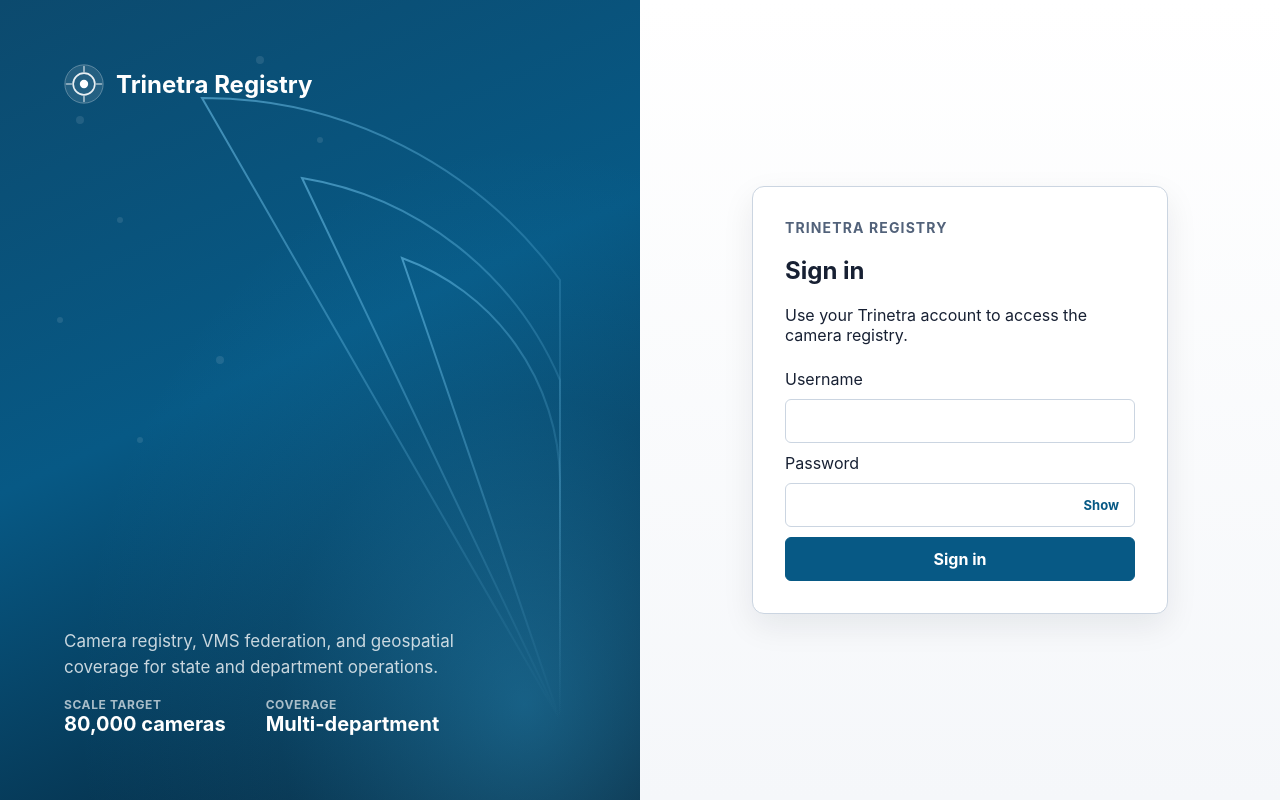
Test case: keeps the signed-out user cache unavailable while the next real login loads its cameras
In the field labelled "Username": [960, 421] box x1=785 y1=399 x2=1135 y2=443, type "second"
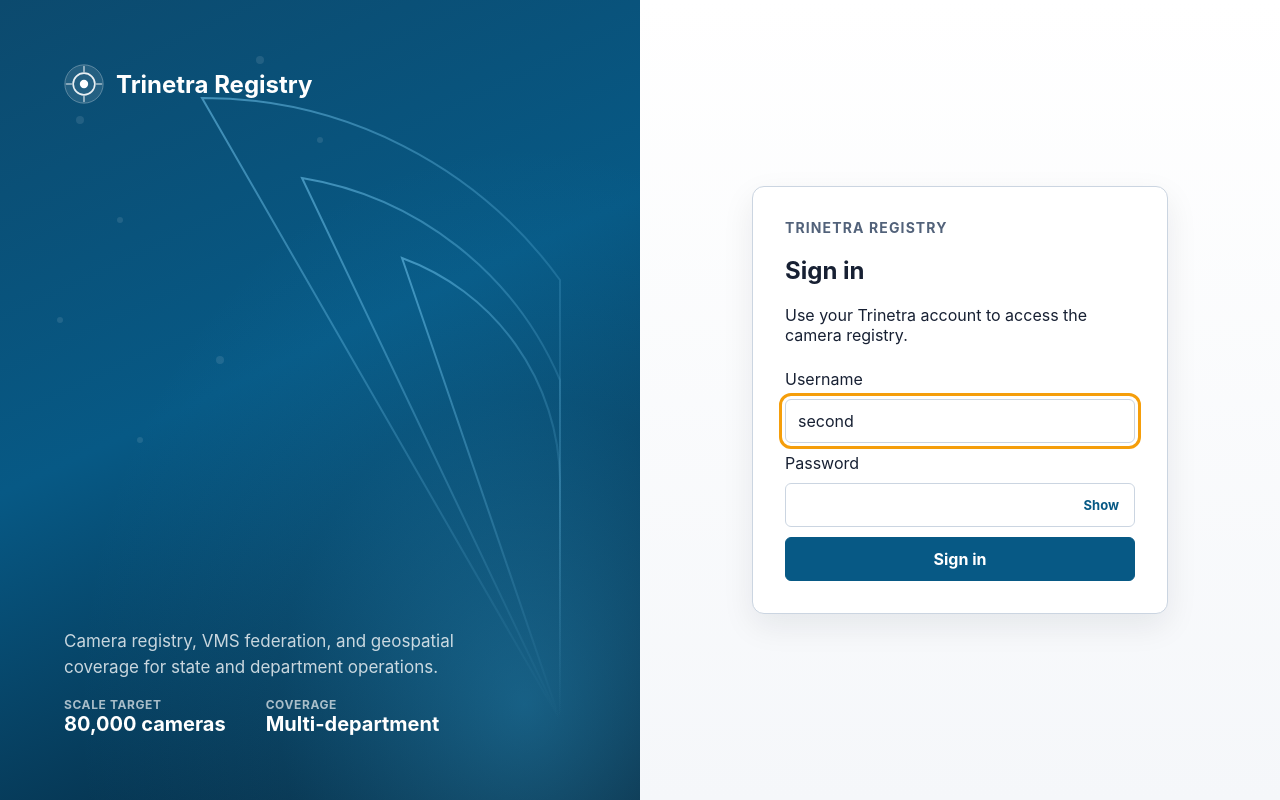
In the password field labelled "Password": [960, 505] box x1=785 y1=483 x2=1135 y2=527, type "valid password"
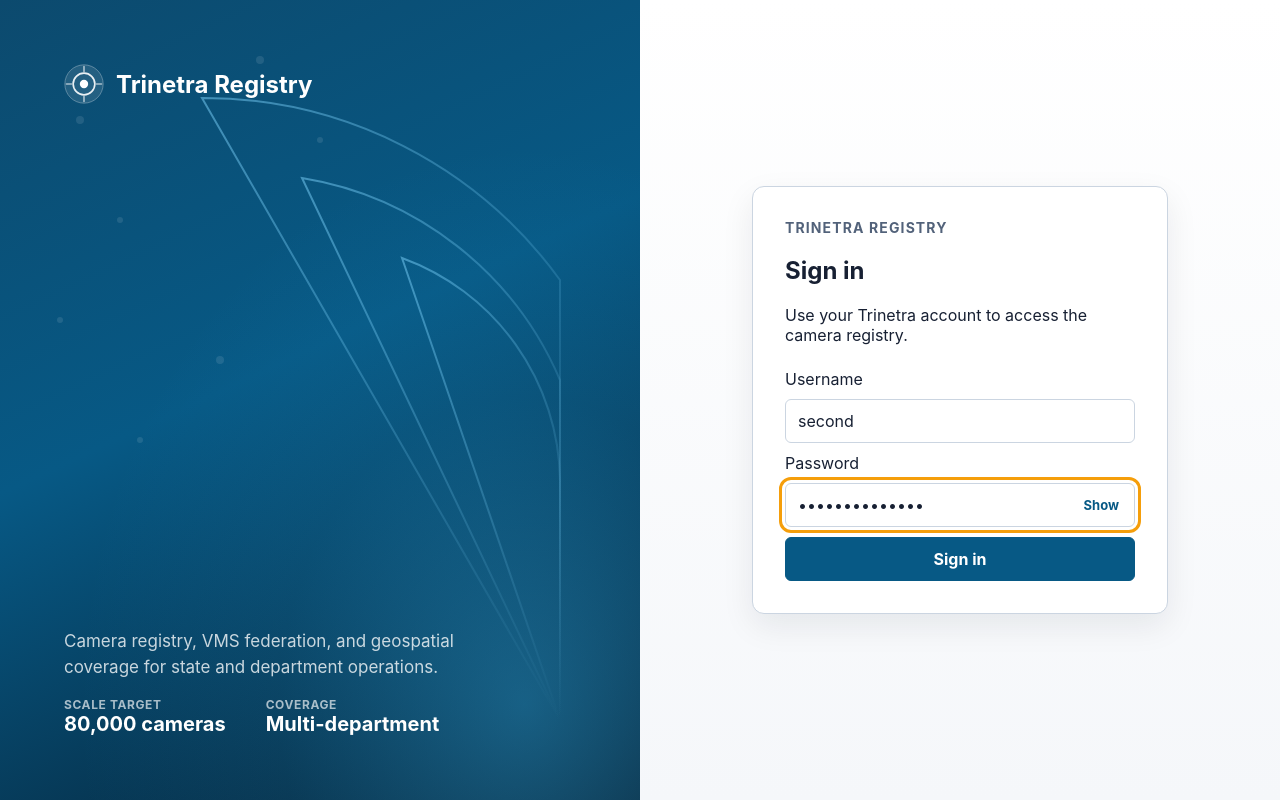
Click the button "Sign in": [960, 559] box x1=785 y1=537 x2=1135 y2=581
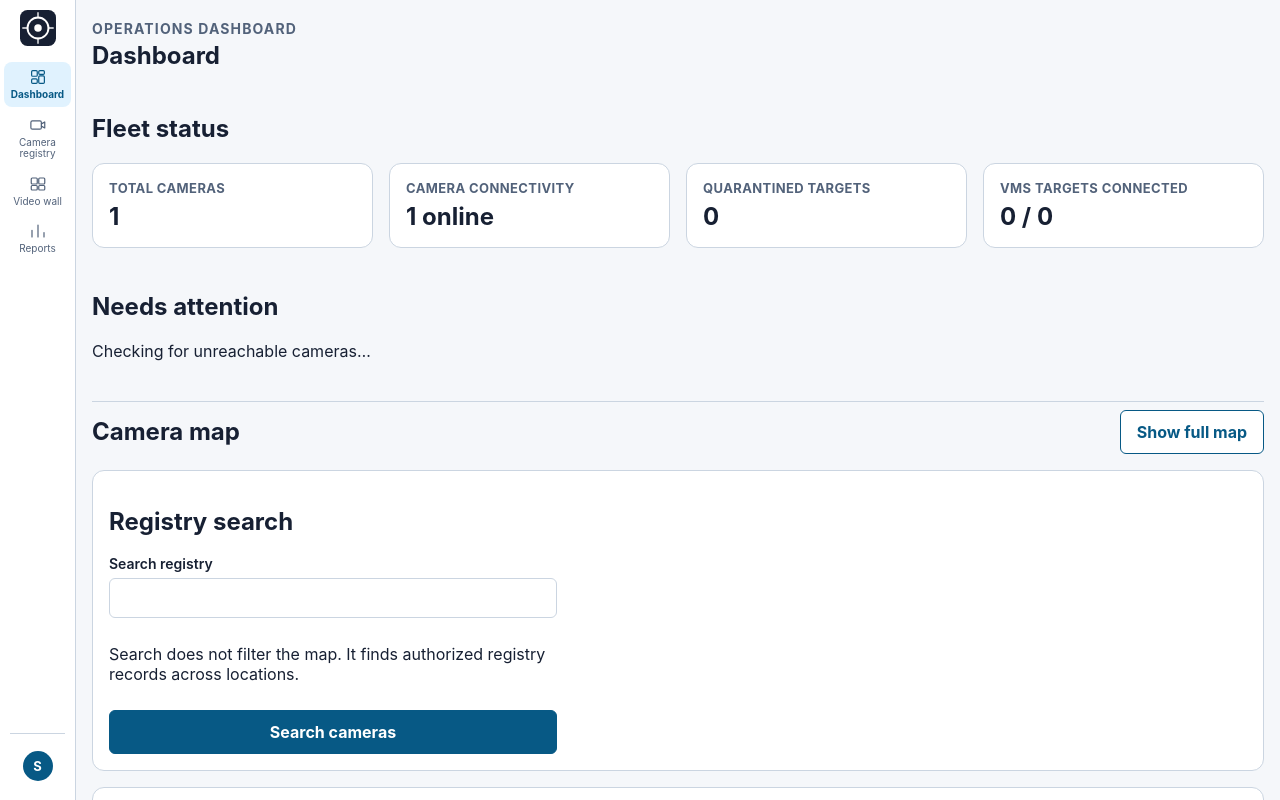
Click the link "Camera registry": [37, 137] box x1=19 y1=116 x2=56 y2=159
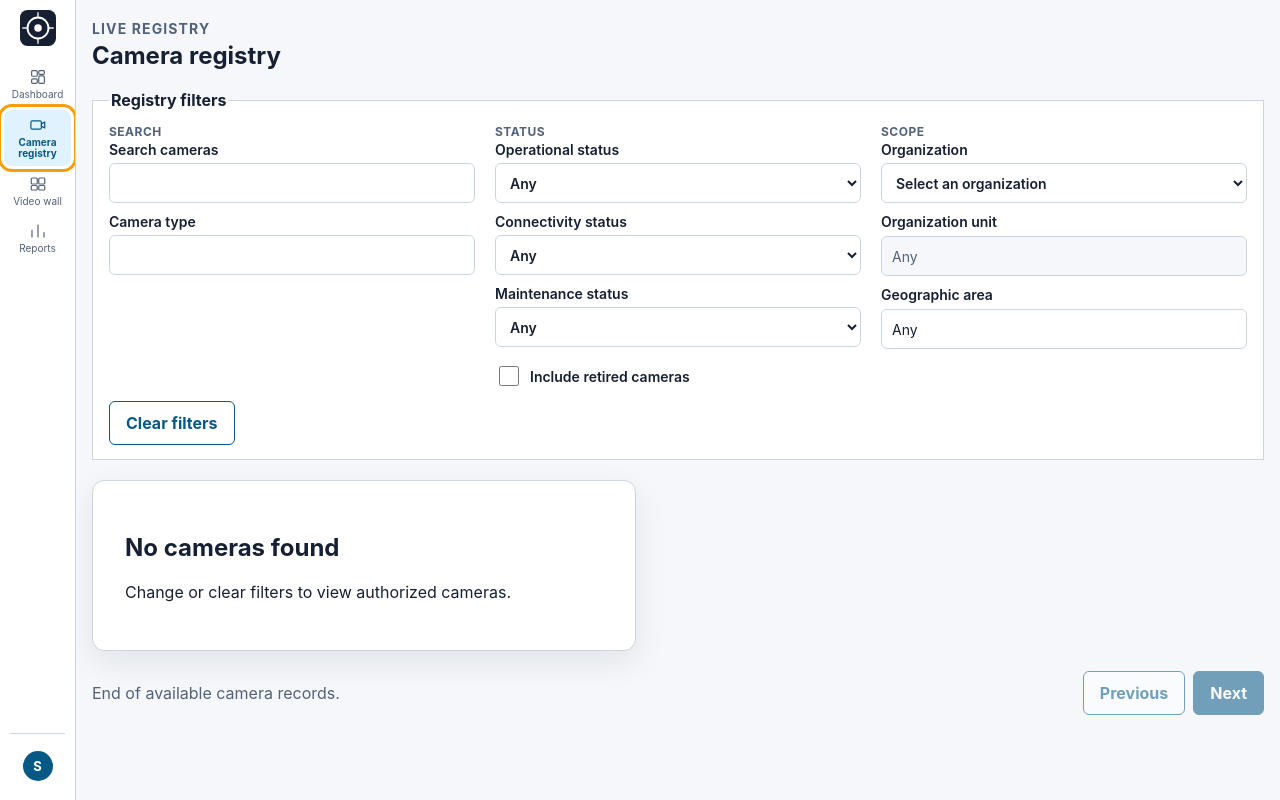
Result: the heading "No cameras found" is shown at x1=125 y1=533 x2=340 y2=562
